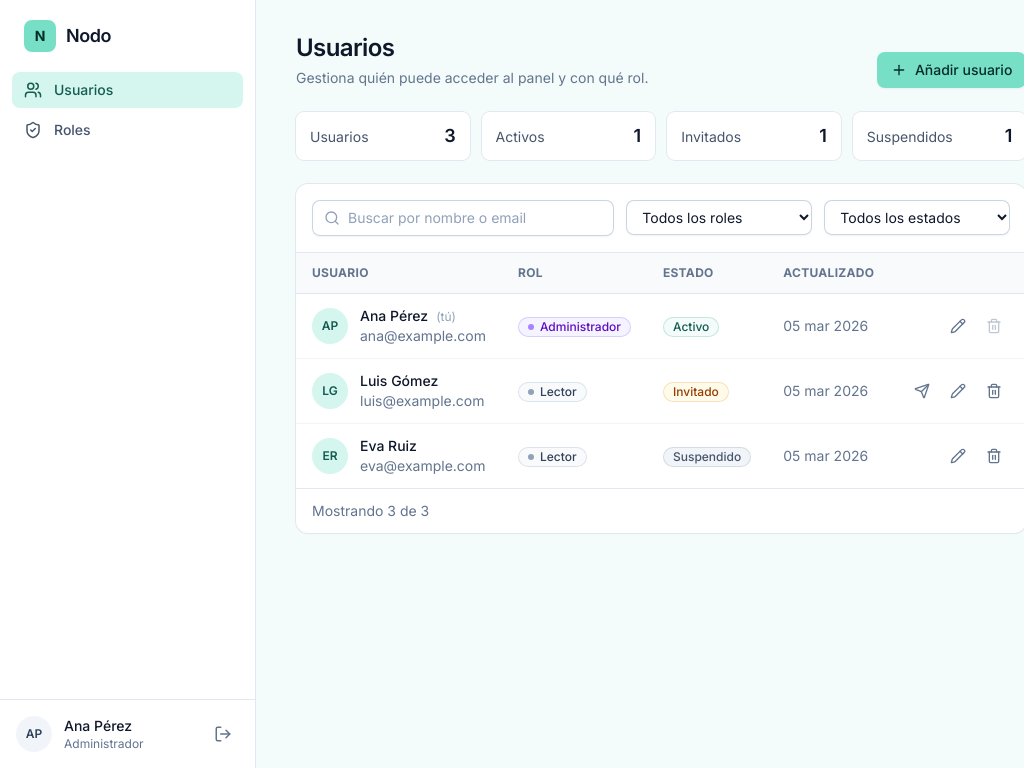
Dashboard › reenvía la invitación y lo anuncia
What coordinates should you click on to do the following:
click the button named "Reenviar invitación a Luis Gómez"
I would click on:
 (922, 391)
Its box is [906,375,938,407].
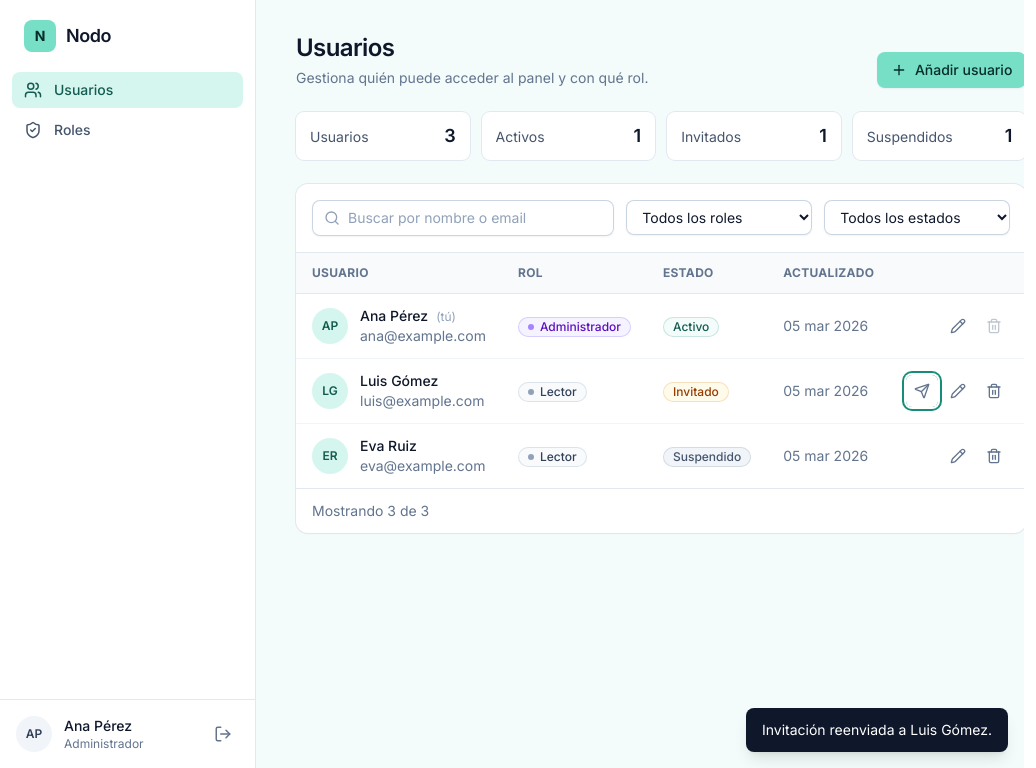
Result: the message reads "Invitación reenviada a Luis Gómez." at [762,721,992,738]
